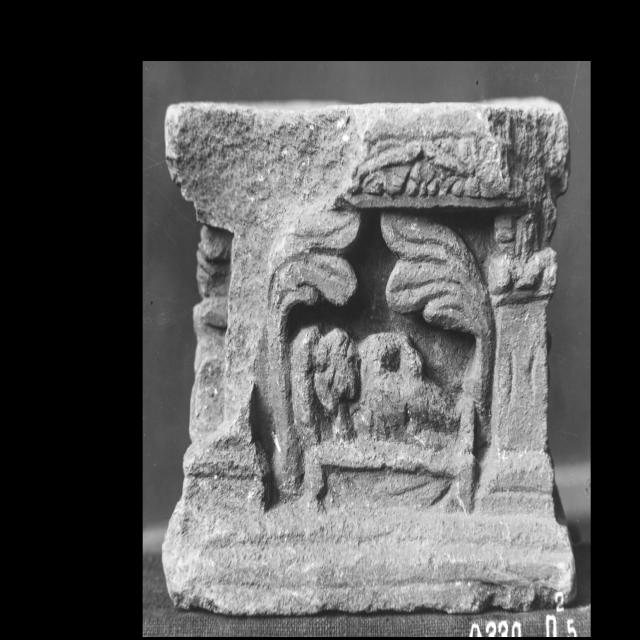buddha-sleeping: (291, 324, 476, 510)
